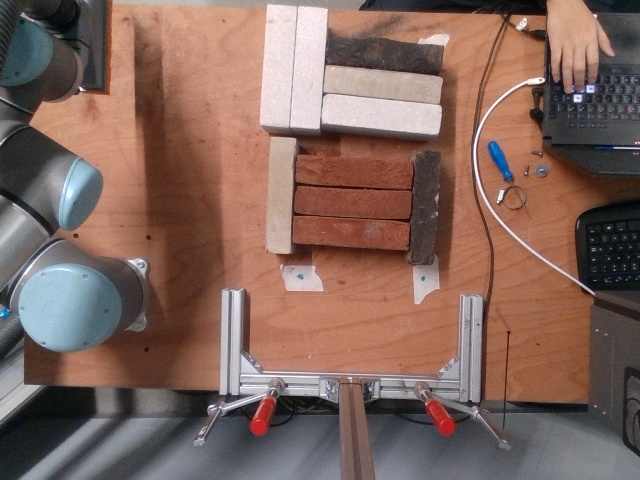brick-side: (321, 92, 441, 135), (321, 64, 441, 104), (324, 35, 444, 75), (256, 6, 296, 125), (289, 8, 328, 127), (293, 216, 408, 247), (298, 155, 413, 186), (297, 187, 410, 218), (408, 150, 439, 261), (265, 138, 294, 250), (639, 77, 639, 179), (639, 125, 639, 140)
